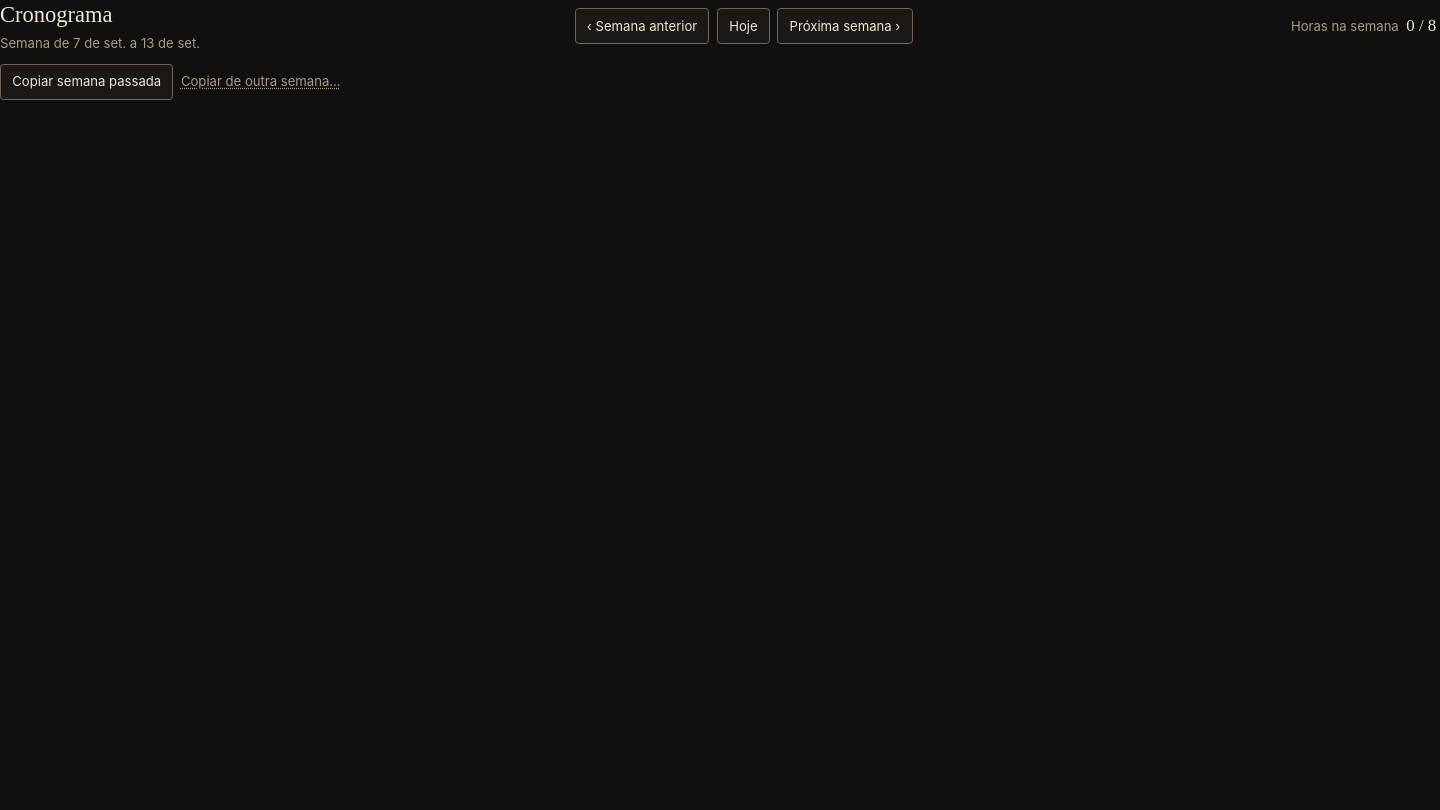
Test case: CabecalhoDeSemana — semana modelo › 'Copiar semana passada' mostra a confirmação com a contagem certa e as duas semanas por extenso
This screenshot has width=1440, height=810.
Click the button "Copiar semana passada" at (87,82), box [0,64,173,100]
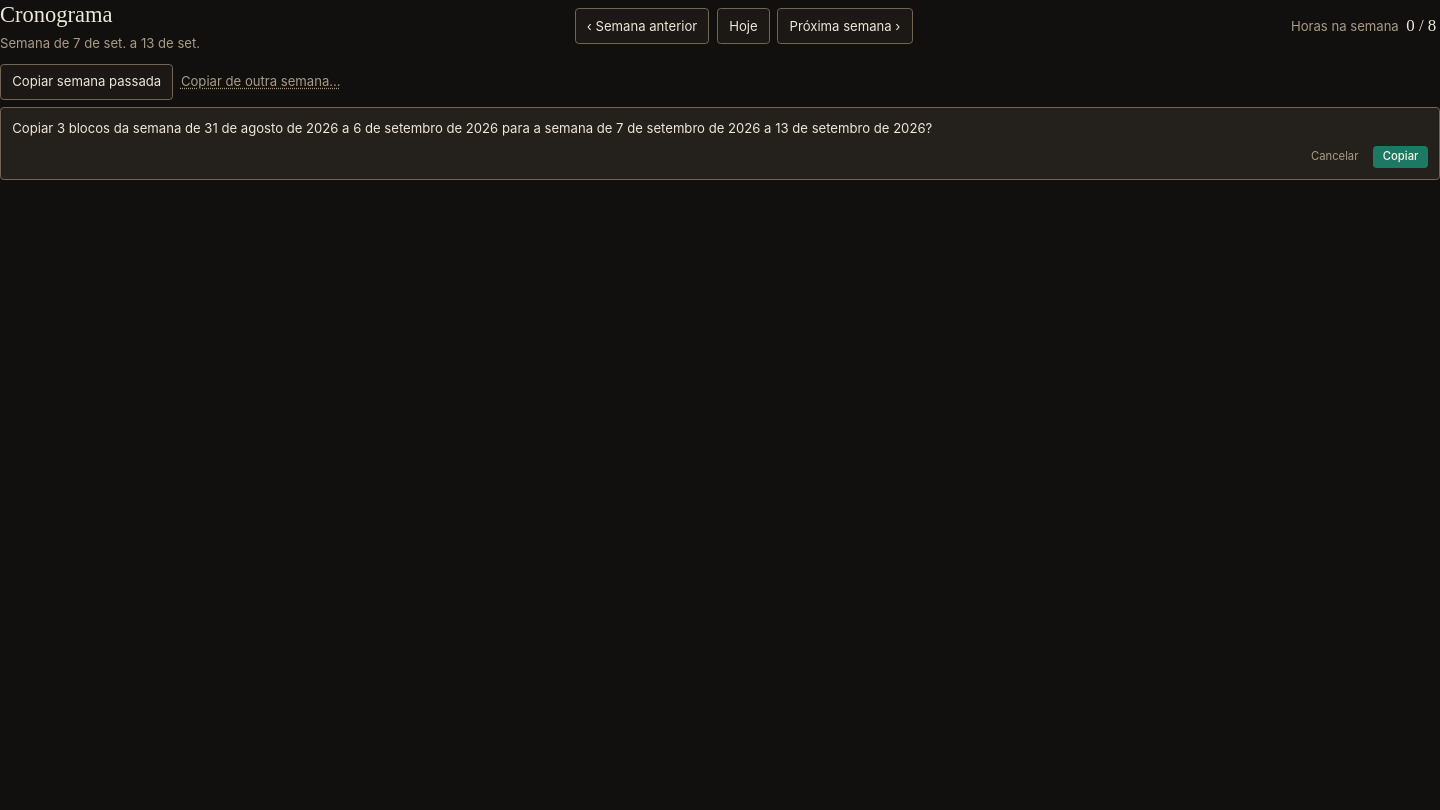
expect the dialog shows "Copiar 3 blocos": met, box [0,107,1439,180]
expect the dialog shows "31 de agosto de 2026 a 6 de setembro de 2026": met, box [0,107,1439,180]
expect the dialog shows "7 de setembro de 2026 a 13 de setembro de 2026": met, box [0,107,1439,180]
